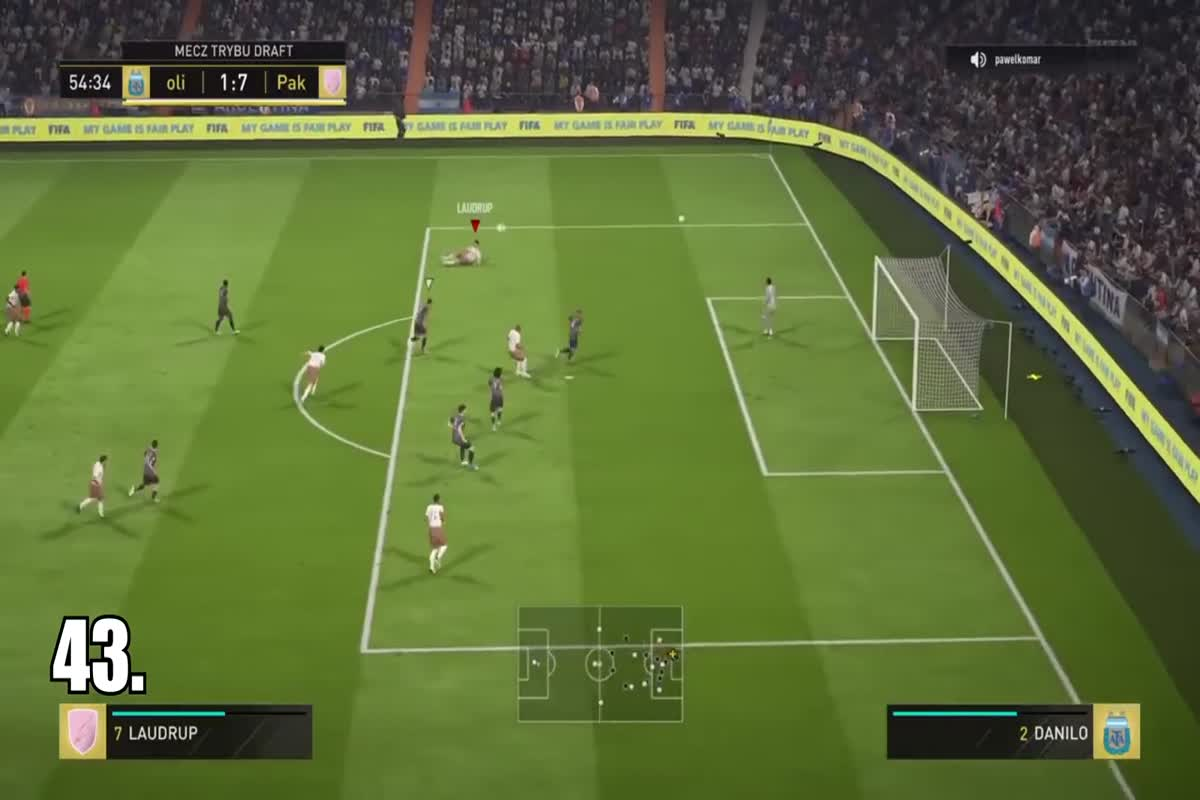ball: (672, 209, 692, 227)
